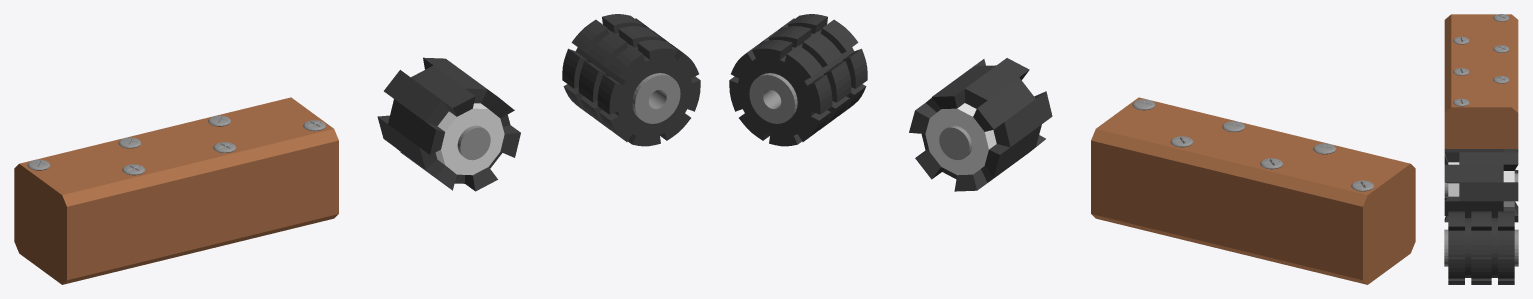
File: Modules.fbx
The picture shows the model from 3 angles, left to right: view 1: azimuth 30°, elevation 25°; view 2: azimuth 150°, elevation 25°; view 3: azimuth 270°, elevation 25°; orthographic projection. The views are drawn at different scales.
Parts seen in each view (by area): view 1: Cube.002, Cube, Cube.001, Cylinder.004, Cylinder.010, Cylinder.011, Cylinder.005; view 2: Cube.002, Cube, Cube.001, Cylinder.004, Cylinder.010, Cylinder.011, Cylinder.005; view 3: Cube, Cylinder.004, Cylinder.010, Cube.002, Cube.001, Cylinder.011, Cylinder.005, Cylinder.001, Cylinder.009, Cylinder.007, Cylinder, Cylinder.006 (+1 smaller).
Part boxes in pixels (x1,y1,x2,y2): Cube.002: [14, 141, 158, 284]; Cube: [200, 97, 338, 240]; Cube.001: [110, 119, 248, 262]; Cylinder.004: [377, 57, 520, 191]; Cylinder.010: [562, 14, 700, 146]; Cylinder.011: [632, 73, 680, 123]; Cylinder.005: [457, 125, 490, 160]; Cube.002: [1272, 141, 1415, 284]; Cube: [1091, 97, 1229, 240]; Cube.001: [1180, 119, 1319, 262]; Cylinder.004: [909, 58, 1052, 191]; Cylinder.010: [729, 14, 867, 146]; Cylinder.011: [749, 73, 797, 123]; Cylinder.005: [939, 125, 972, 160]; Cube: [1444, 76, 1518, 155]; Cylinder.004: [1444, 149, 1518, 222]; Cylinder.010: [1448, 211, 1514, 284]; Cube.002: [1444, 14, 1518, 50]; Cube.001: [1444, 45, 1518, 81]; Cylinder.011: [1444, 229, 1518, 266]; Cylinder.005: [1444, 173, 1518, 197]; Cylinder.001: [1453, 98, 1469, 106]; Cylinder.009: [1453, 36, 1469, 44]; Cylinder.007: [1453, 68, 1469, 75]; Cylinder: [1493, 76, 1509, 83]; Cylinder.006: [1493, 45, 1509, 52].
Bounding box in the file's own units: 1397 × 200 × 200.
